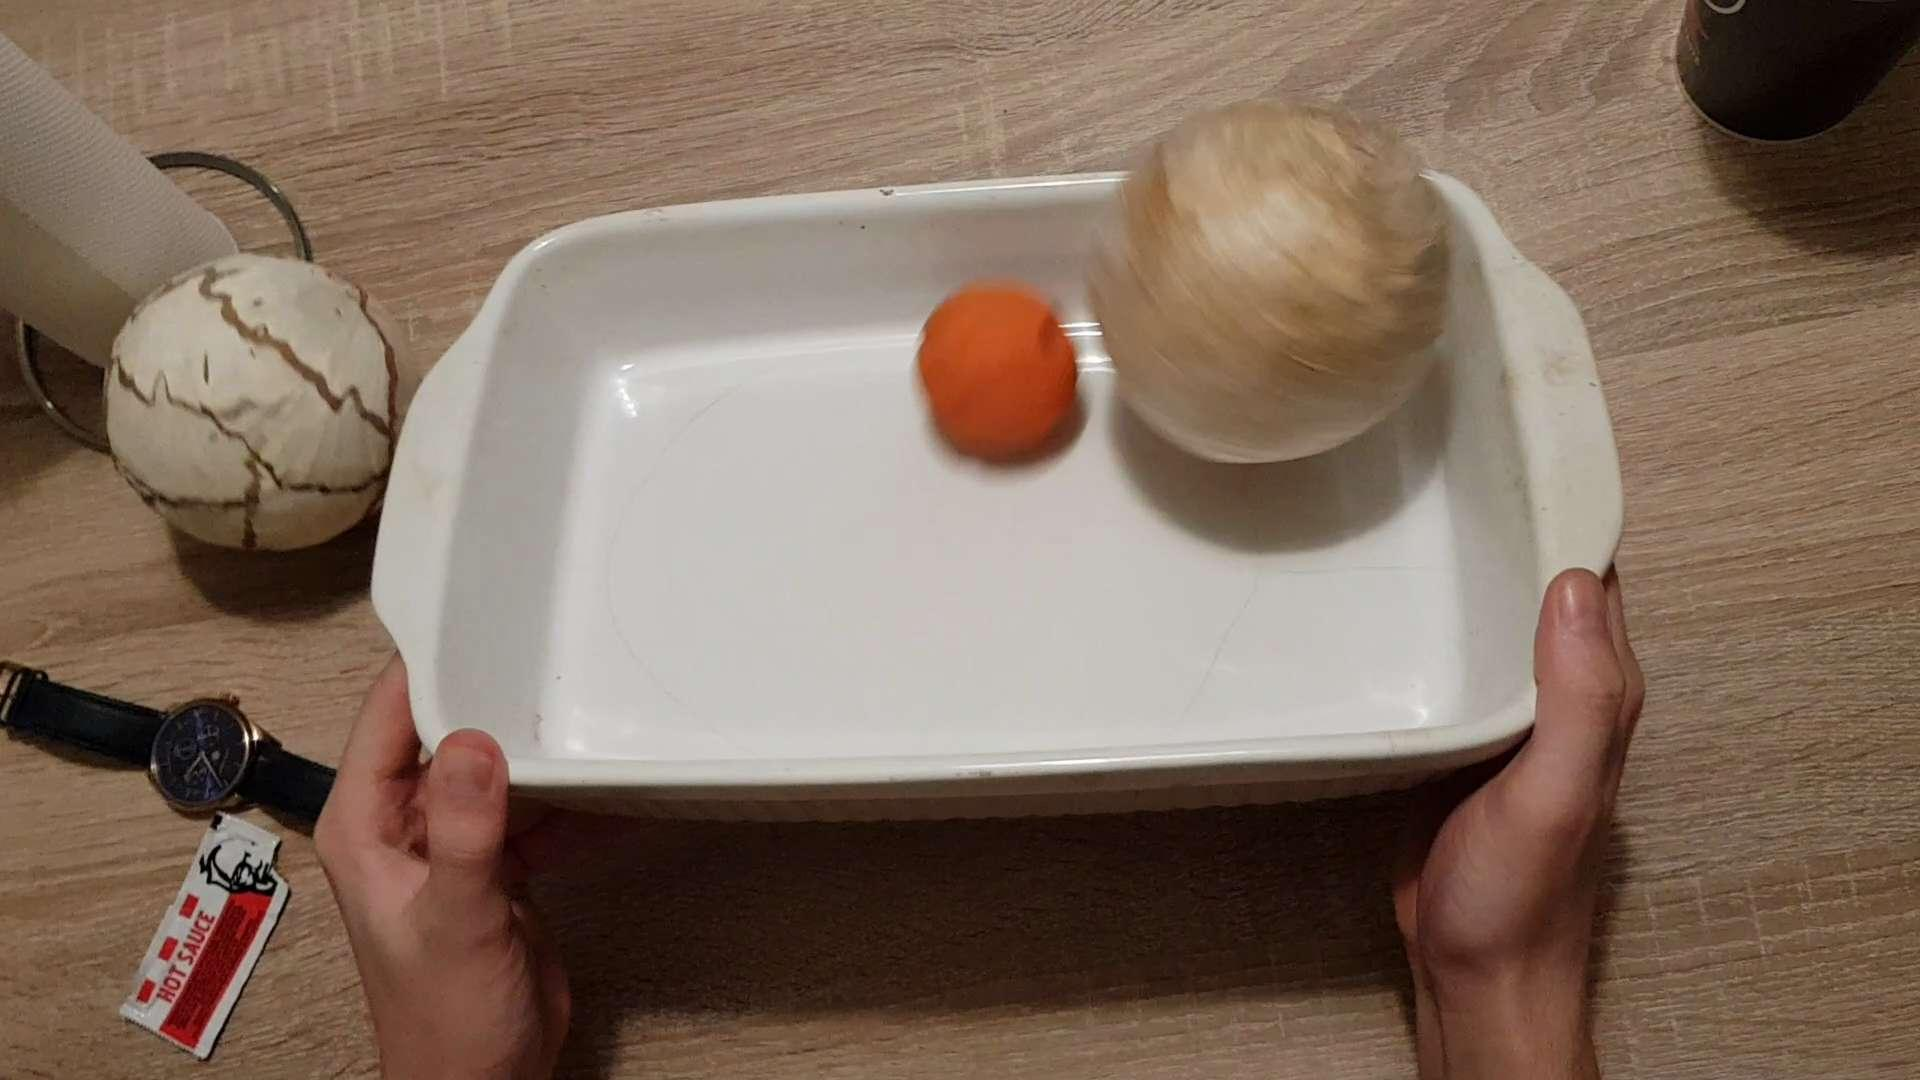Sphere: (1087, 102, 1451, 462)
sphere: (109, 243, 396, 541), (905, 277, 1073, 469)
